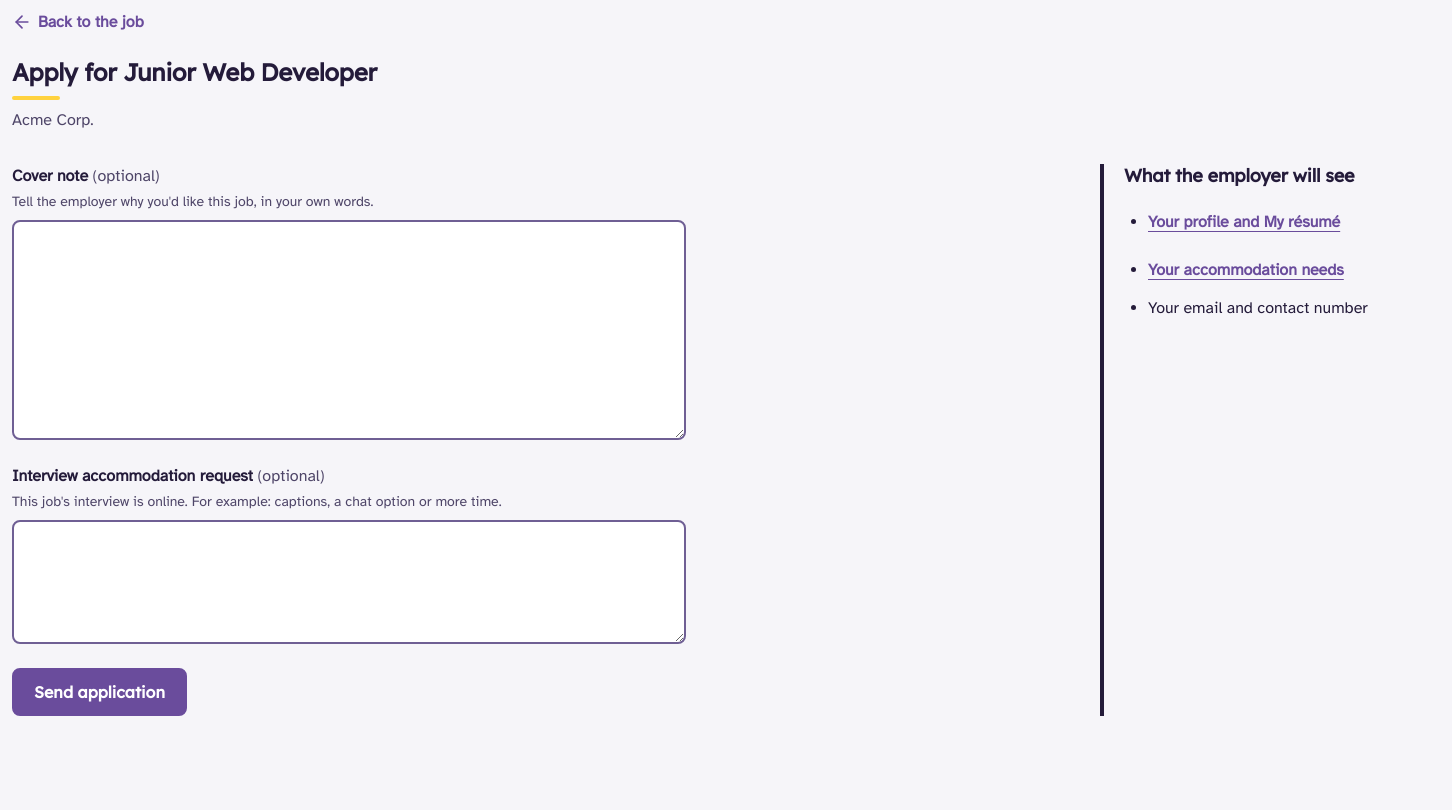
Scenario: ApplyPage › explains when the job closed while writing
Step 1. Type "I have three years of bookkeeping." into the text box labelled "Cover note (optional)" → (349, 330), box [12,220,686,440]
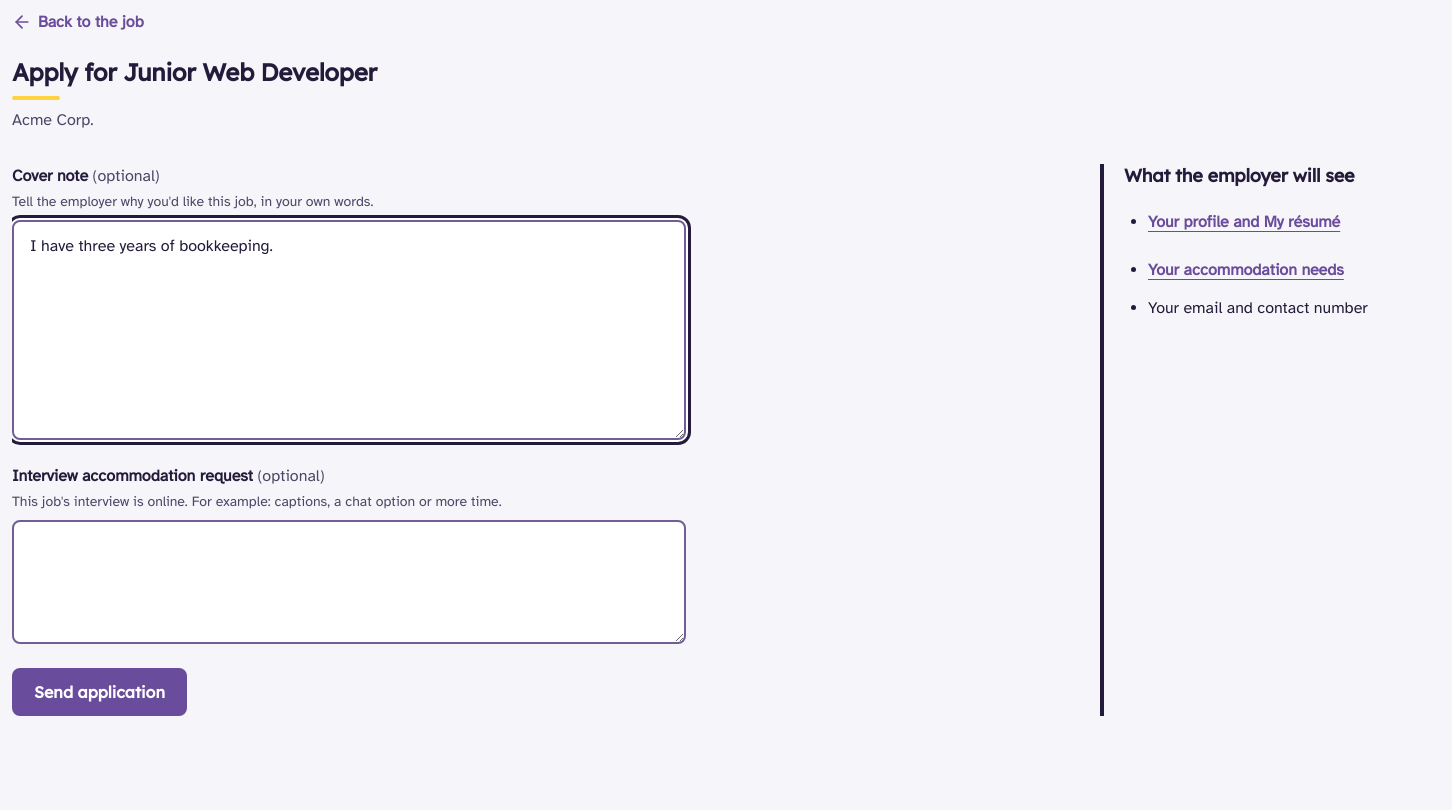
Step 2. Type "Captions, please." into the text box labelled "Interview accommodation request (optional)" → (349, 582), box [12,520,686,644]
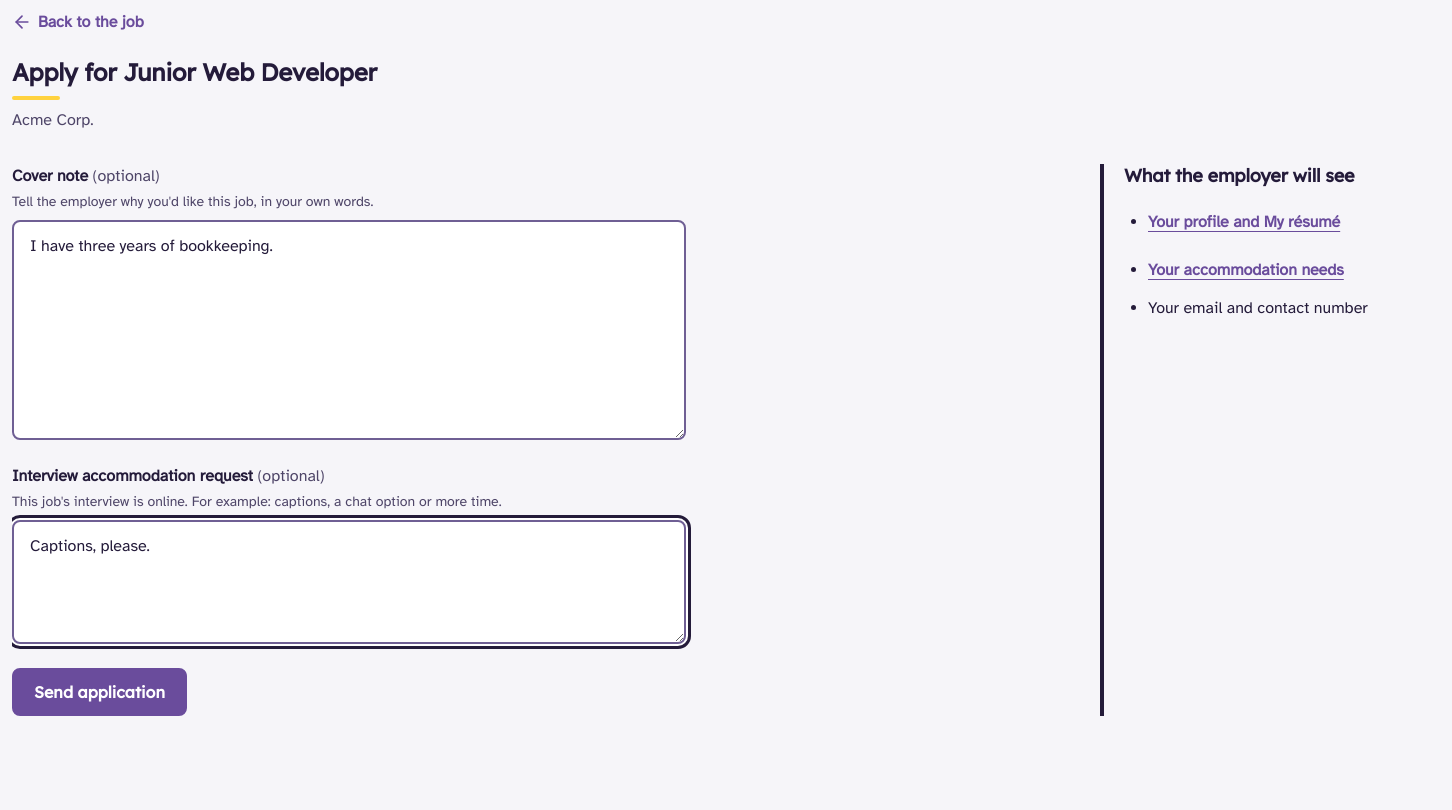
Step 3. Click the button "Send application" → (99, 692), box [12,668,187,716]
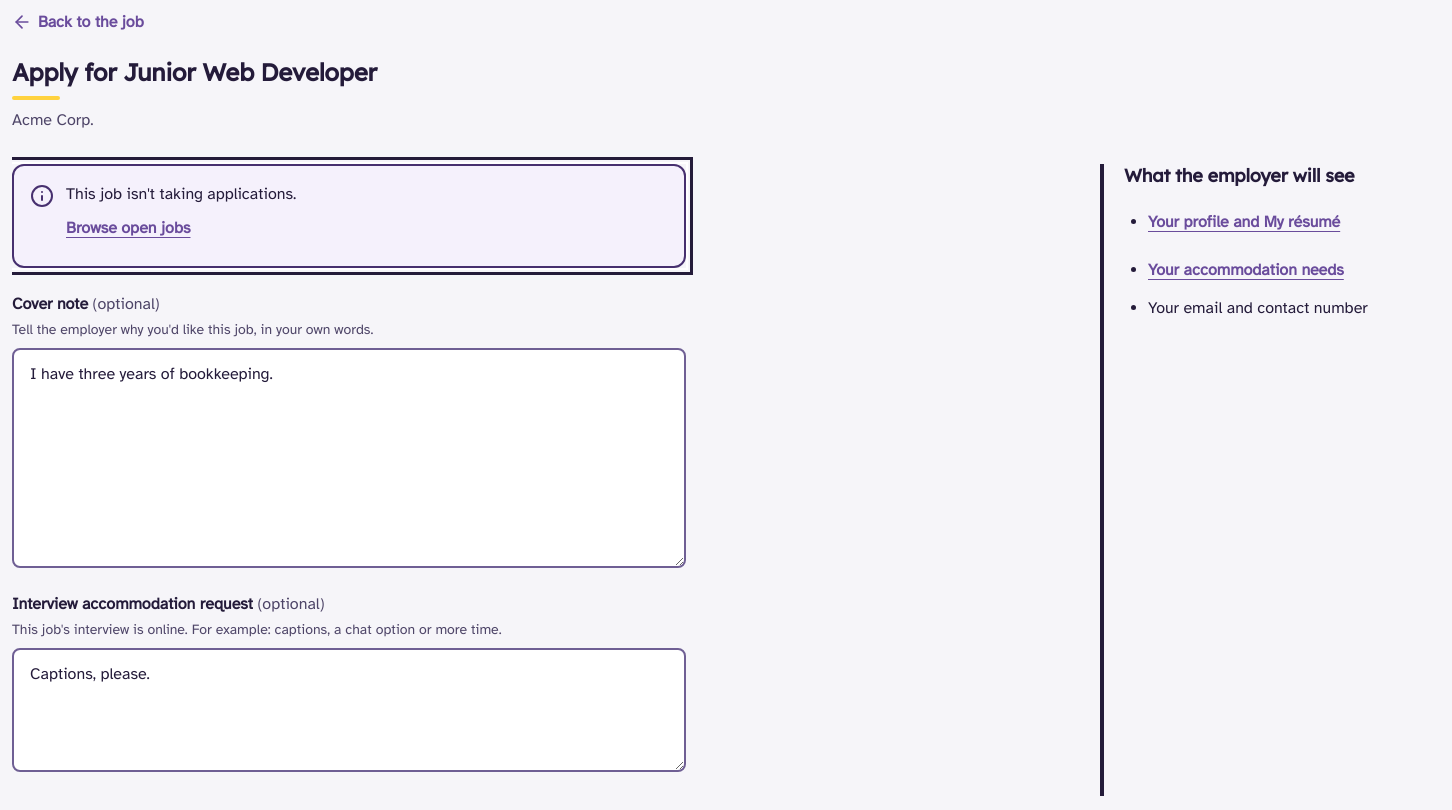
Now the text "This job isn't taking applications." is shown, box [66,182,296,206]
Now the button "Send application" is gone
